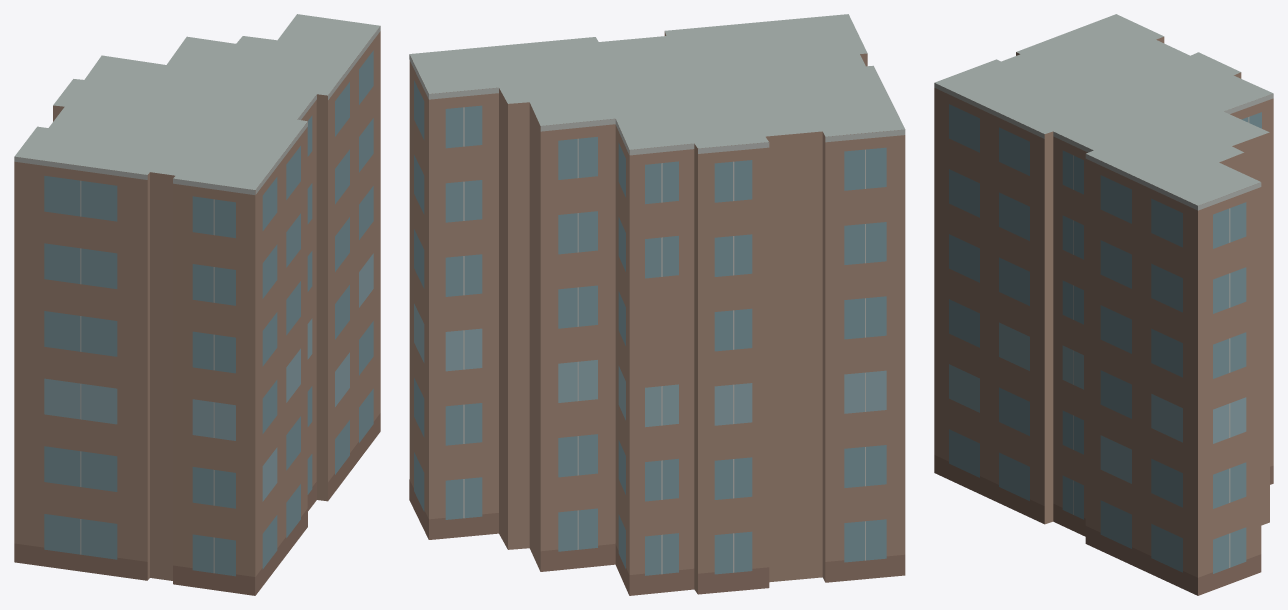
Rendered from survey-upis-32856297.glb.
3 views of the same model, side by side, from view 1: azimuth 30°, elevation 25°; view 2: azimuth 150°, elevation 25°; view 3: azimuth 270°, elevation 25° (orthographic). The views are drawn at different scales.
Parts seen in each view (by area): view 1: survey-upis-32856297.tmp; view 2: survey-upis-32856297.tmp; view 3: survey-upis-32856297.tmp.
Part boxes in pixels (x1,y1,x2,y2): survey-upis-32856297.tmp: (14, 14, 380, 595); survey-upis-32856297.tmp: (409, 14, 905, 595); survey-upis-32856297.tmp: (934, 14, 1273, 595).
Bounding box in the file's own units: 20.46 × 19.4 × 15.3.
